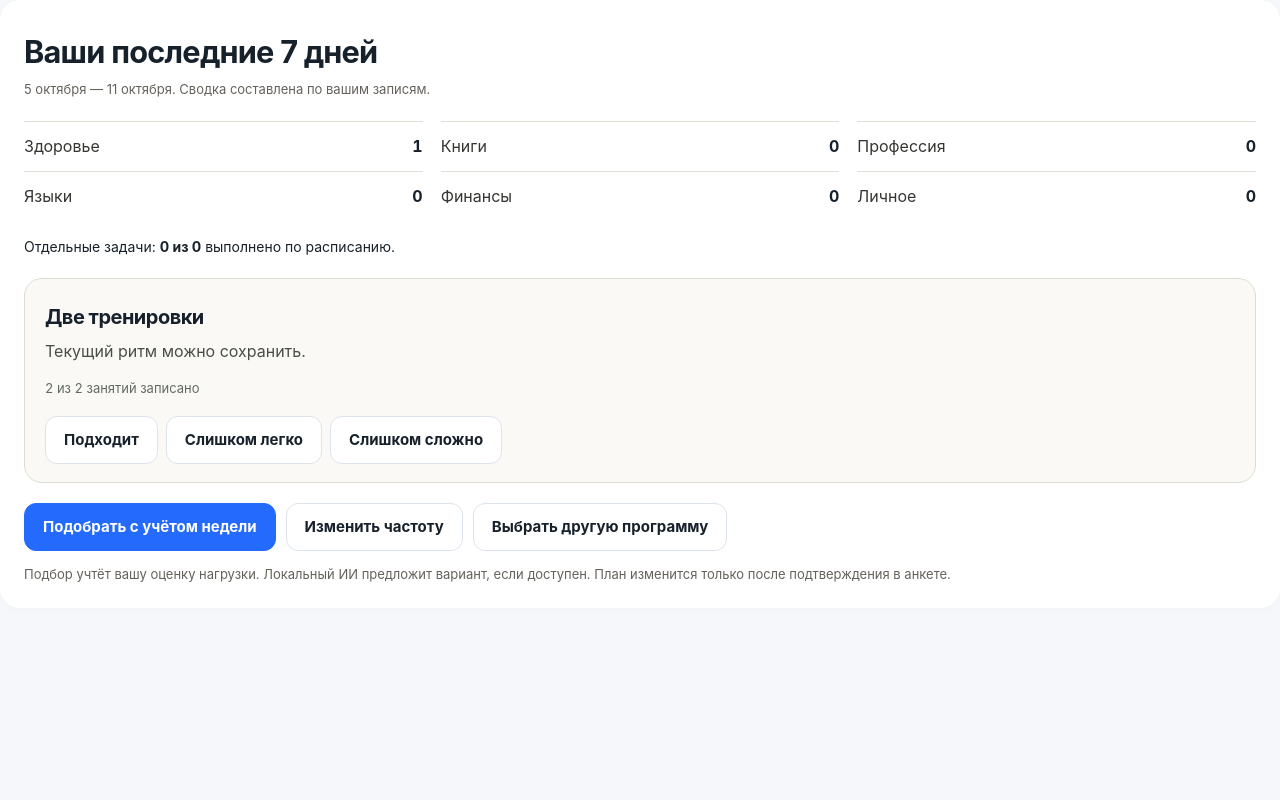
Test: training difficulty feedback saves for the week and remains editable
This screenshot has width=1280, height=800.
What coordinates should you click on to do the following:
click the button "Слишком легко"
I would click on:
 (244, 440)
Its box is [166, 416, 322, 464].
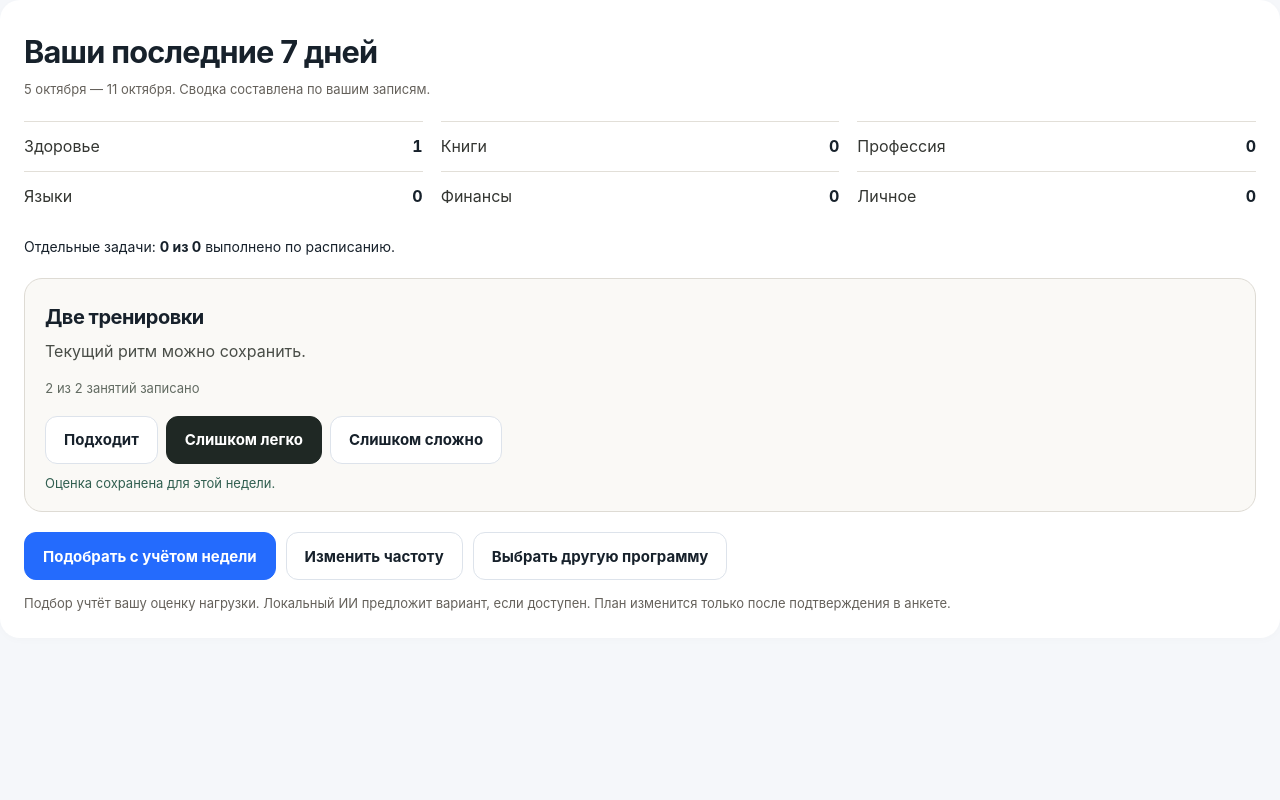
expect the text "Оценка сохранена для этой недели." is shown: met, box [45, 475, 275, 491]
